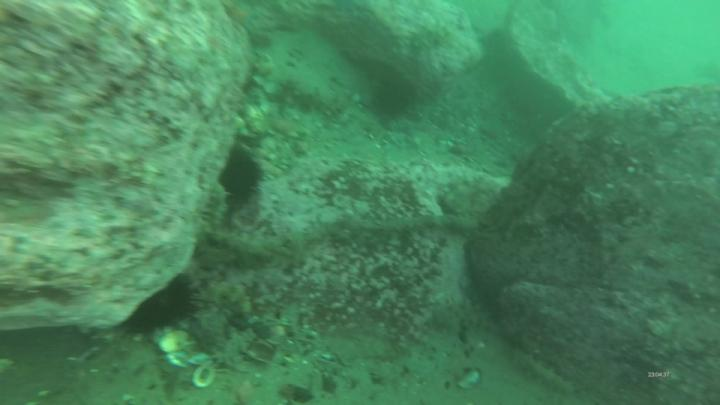echinus: (128, 277, 194, 332), (220, 150, 261, 199), (376, 79, 413, 119)
holothurian: (516, 352, 574, 396)
